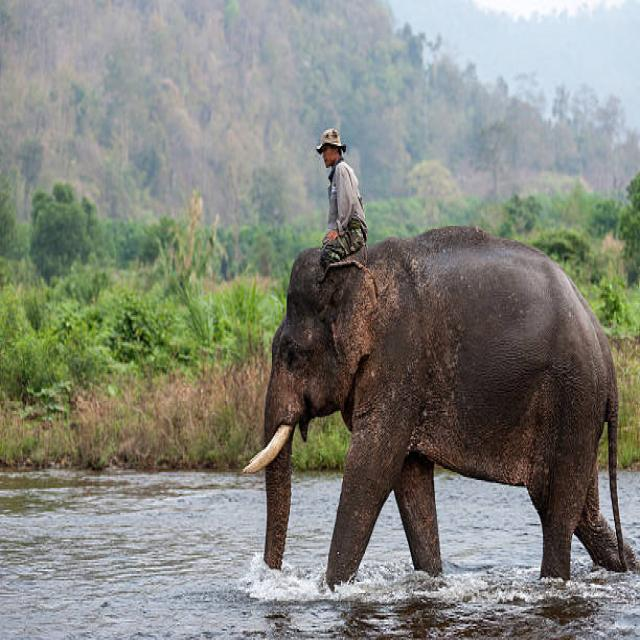Elephant: (249, 222, 640, 606)
